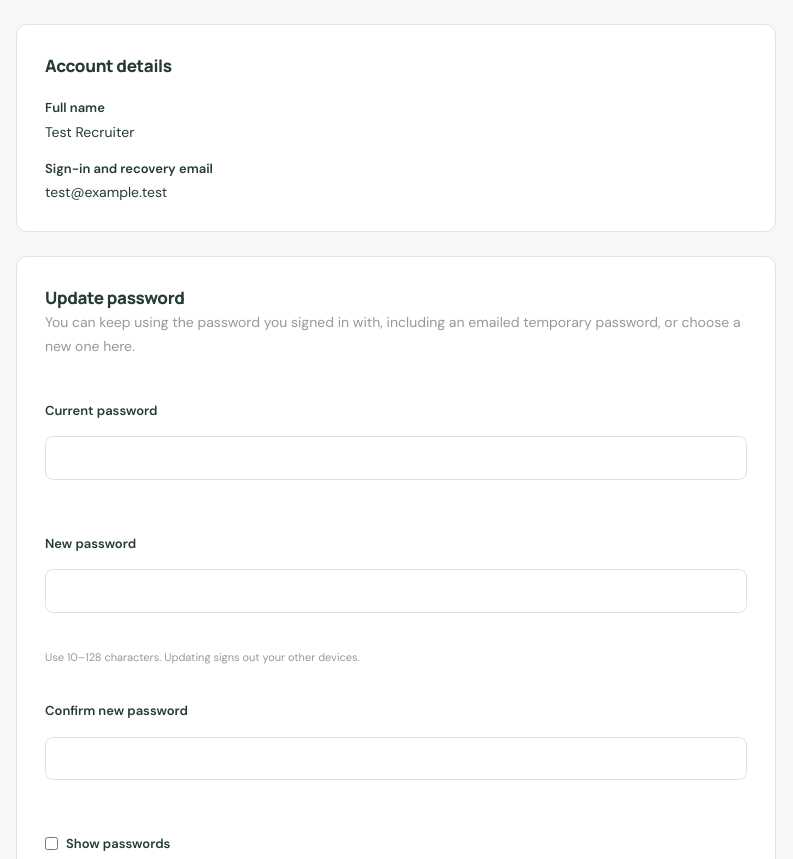
prevents mismatched confirmation
In the password field labelled "Current password": point(396, 458) left=45, top=436, right=747, bottom=480, type "Emailed-test-password"
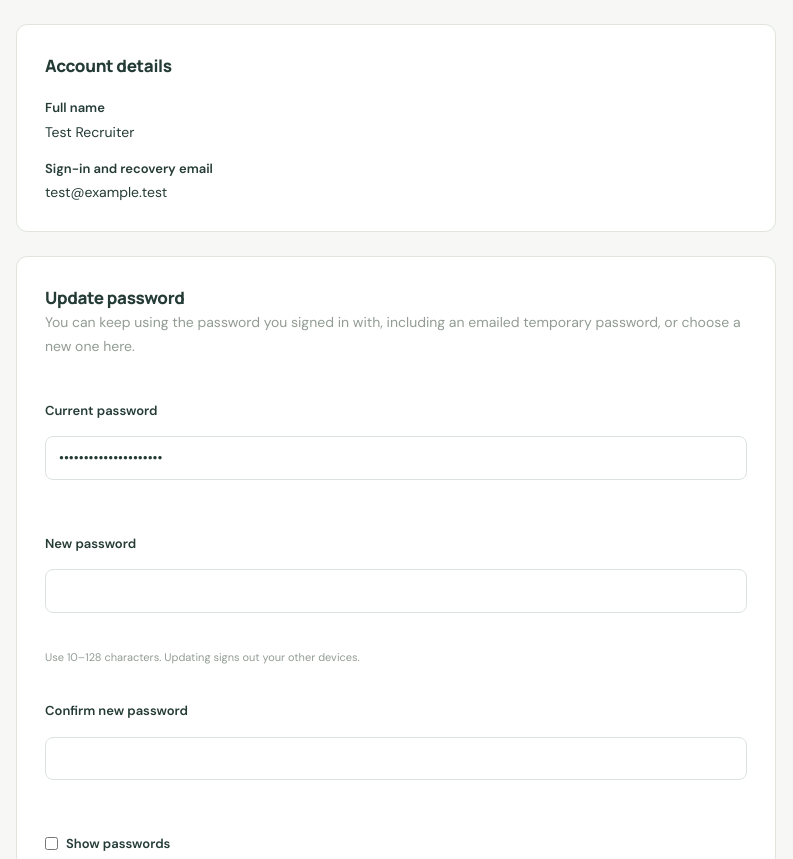
In the password field labelled "New password": point(396, 591) left=45, top=569, right=747, bottom=612, type "New-test-password-2026"
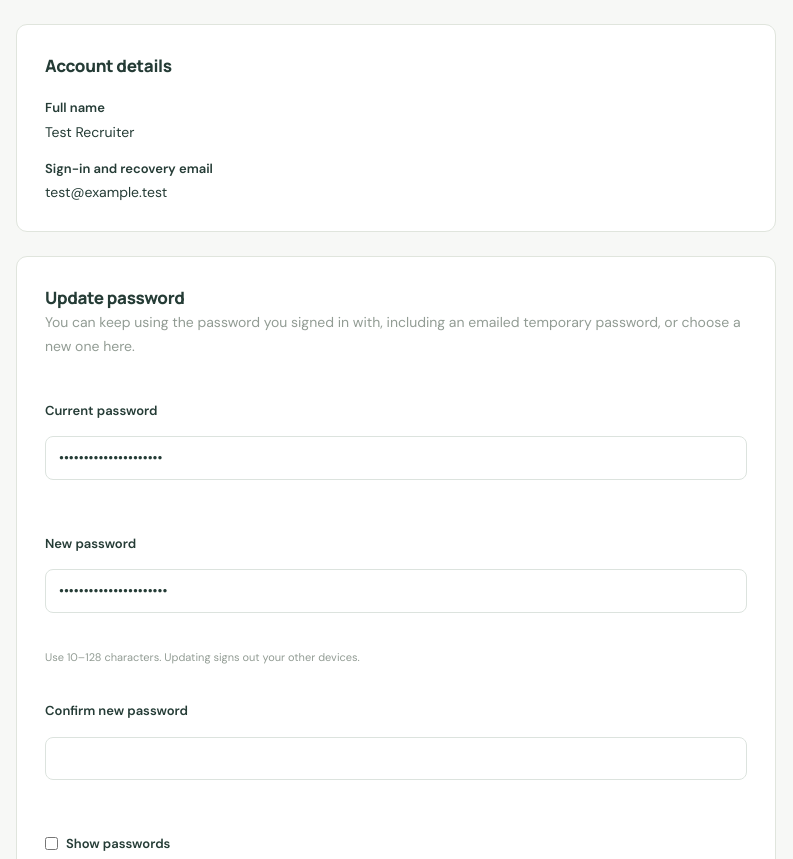
In the password field labelled "Confirm new password": point(396, 758) left=45, top=736, right=747, bottom=780, type "Different-password"
(page scrolled)
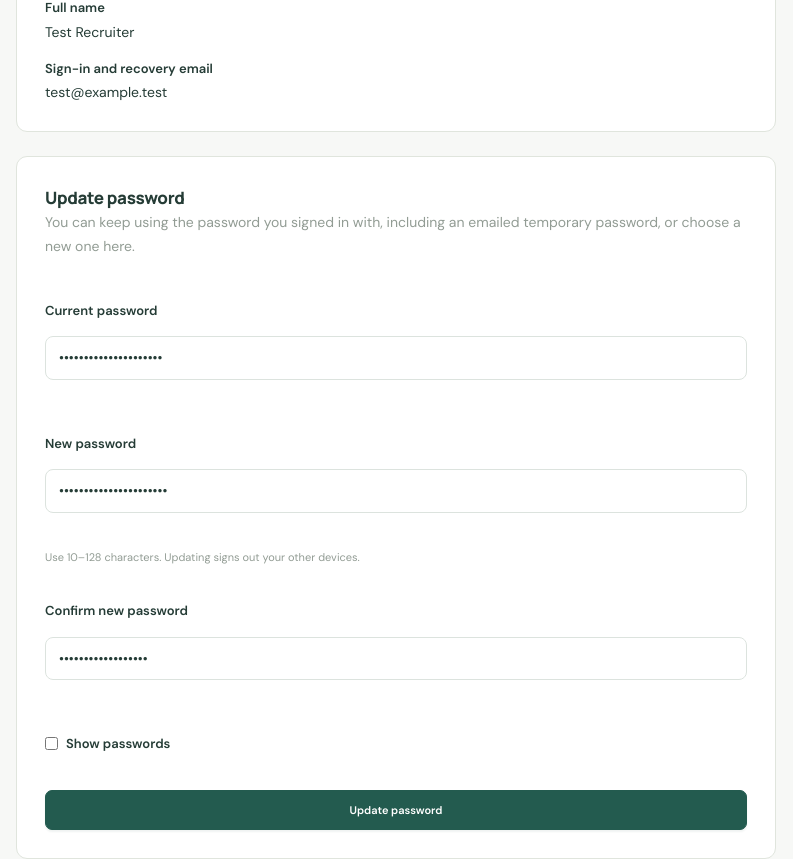
Click the button "Update password": point(396, 810) left=45, top=790, right=747, bottom=830
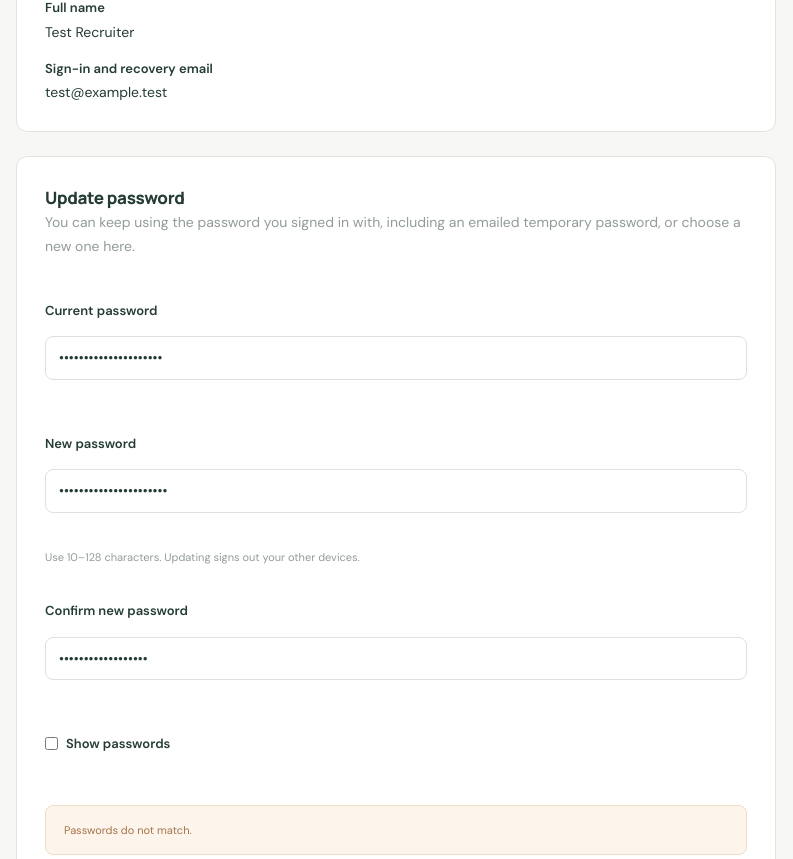
Check: the message shows "do not match", box left=64, top=822, right=192, bottom=836
